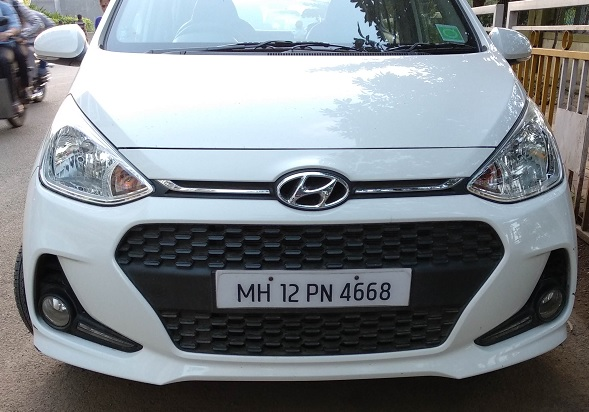licenseplate: (215, 267, 413, 310)
